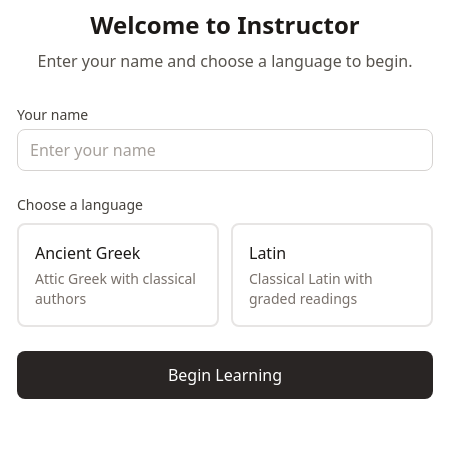
Test: RegisterPage › shows error when no language selected
Type "Alice" into the field labelled "Your name".
click(225, 150); type("Alice")  # box [17,129,433,171]
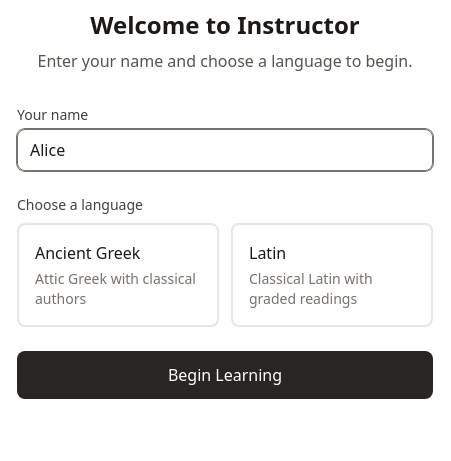
Click the button "Begin Learning".
click(225, 375)  # box [17,351,433,399]
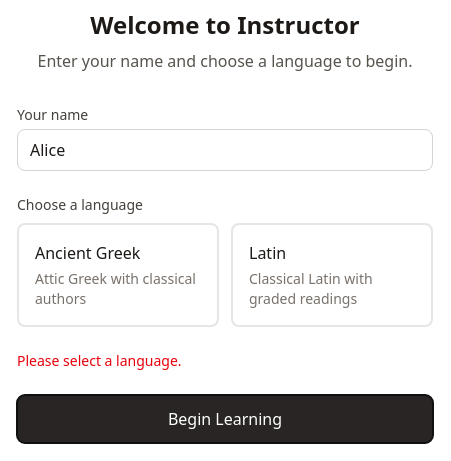
Expected: the message shows "Please select a language", [17,351,182,370]
